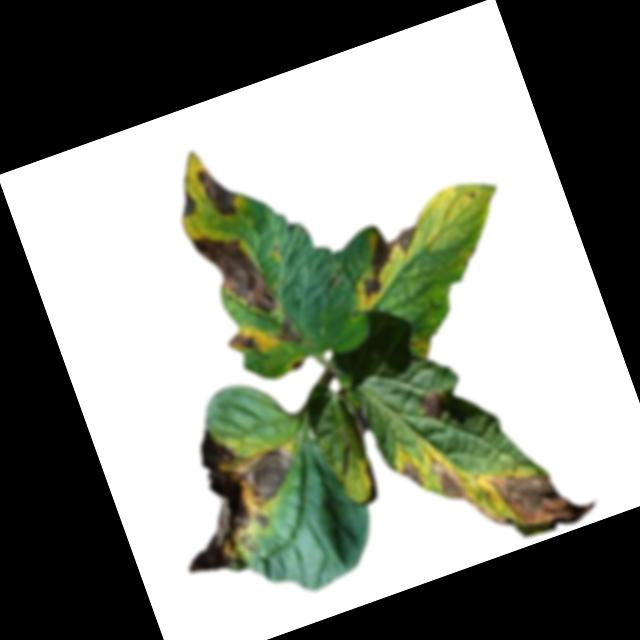Early_blight: (150, 423, 320, 584), (426, 413, 597, 561), (189, 219, 282, 333), (343, 221, 436, 305), (195, 158, 244, 225), (415, 387, 451, 425), (225, 327, 259, 359), (272, 315, 303, 349), (396, 459, 425, 495), (174, 188, 201, 220), (288, 356, 308, 373)
